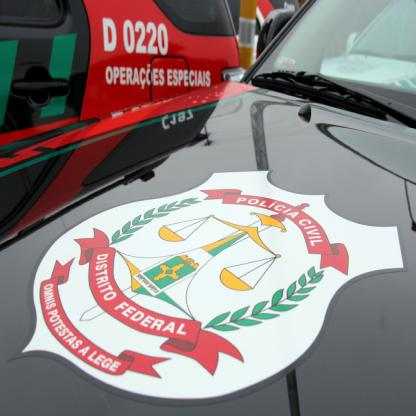Car: (1, 1, 414, 416), (1, 1, 248, 137)
